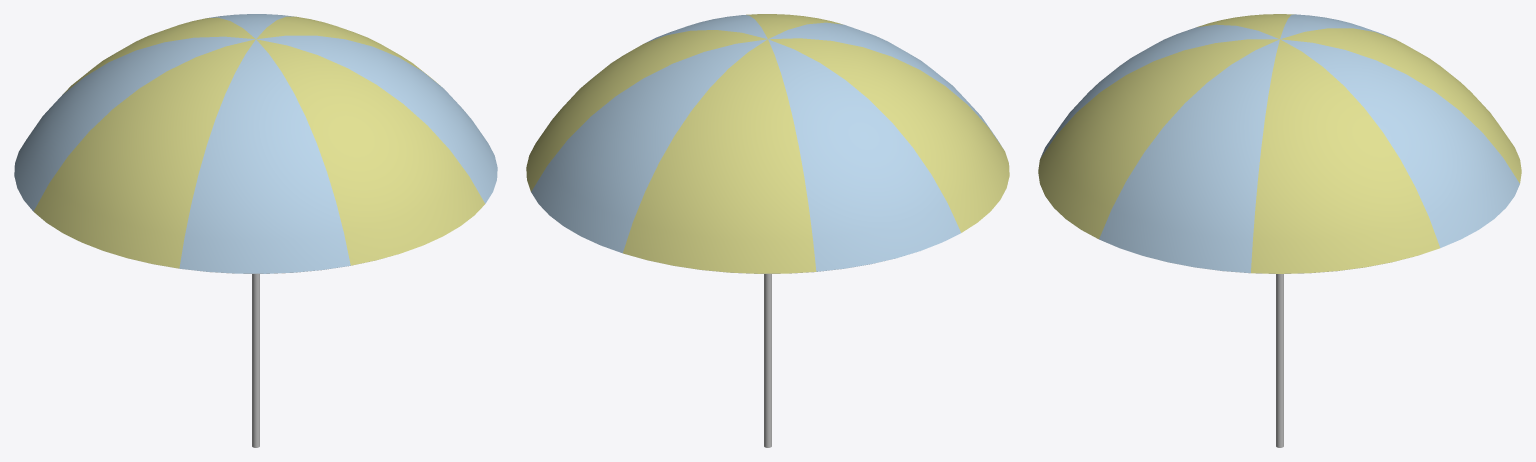
File: sombrilla.gltf
3 renders of one model, left to right at view 1: azimuth 30°, elevation 25°; view 2: azimuth 150°, elevation 25°; view 3: azimuth 270°, elevation 25°, orthographic.
Visible parts, largest first — view 1: Sphere-Mat, Sphere-Mat.1, Cylinder.1; view 2: Sphere-Mat, Sphere-Mat.1, Cylinder.1; view 3: Sphere-Mat, Sphere-Mat.1, Cylinder.1.
Part boxes in pixels (left/top/right/bottom): Sphere-Mat: left=33, top=16, right=484, bottom=268; Sphere-Mat.1: left=14, top=14, right=497, bottom=273; Cylinder.1: left=252, top=274, right=259, bottom=447; Sphere-Mat: left=526, top=14, right=1009, bottom=273; Sphere-Mat.1: left=531, top=15, right=1002, bottom=271; Cylinder.1: left=764, top=274, right=771, bottom=447; Sphere-Mat: left=1038, top=14, right=1521, bottom=273; Sphere-Mat.1: left=1040, top=14, right=1519, bottom=273; Cylinder.1: left=1276, top=274, right=1283, bottom=447.
Size of the model in its own units: 18.34 by 17.03 by 18.34.
